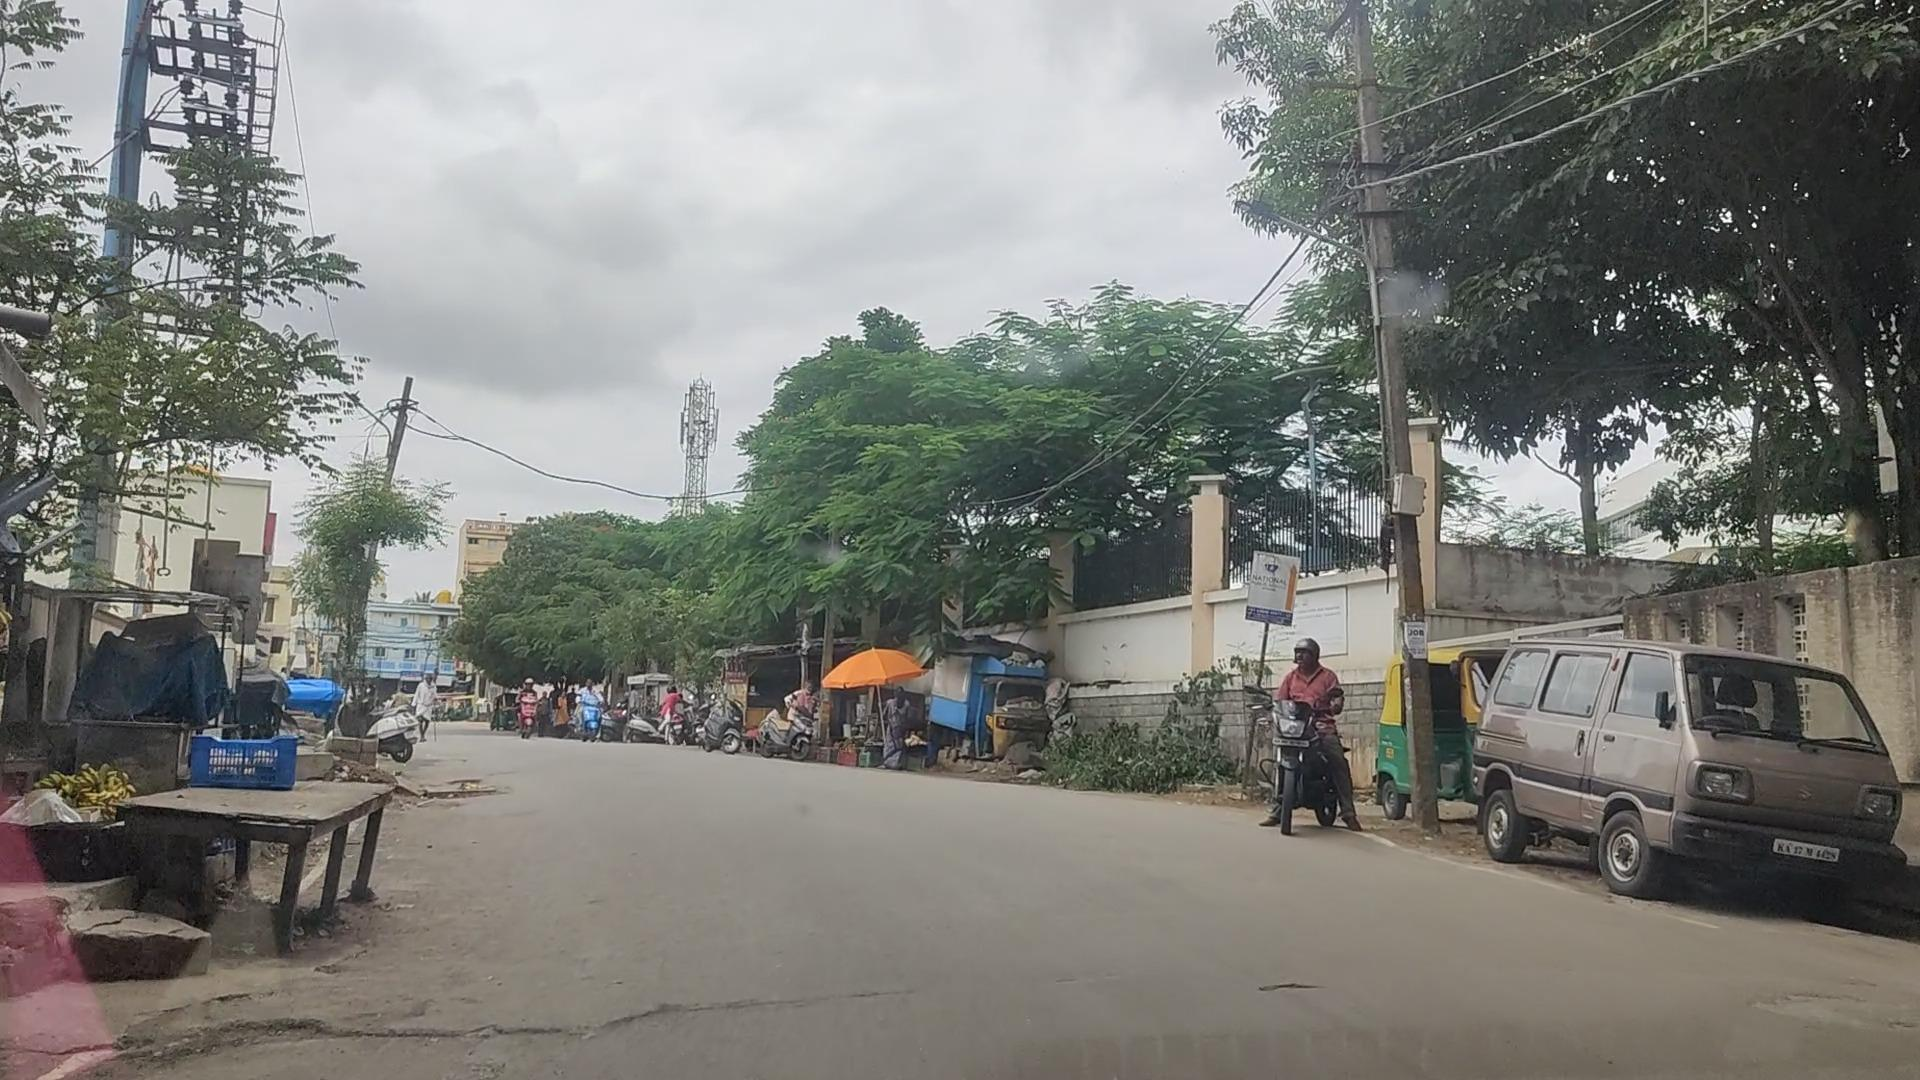RoadDamages: (198, 986, 794, 1059)
